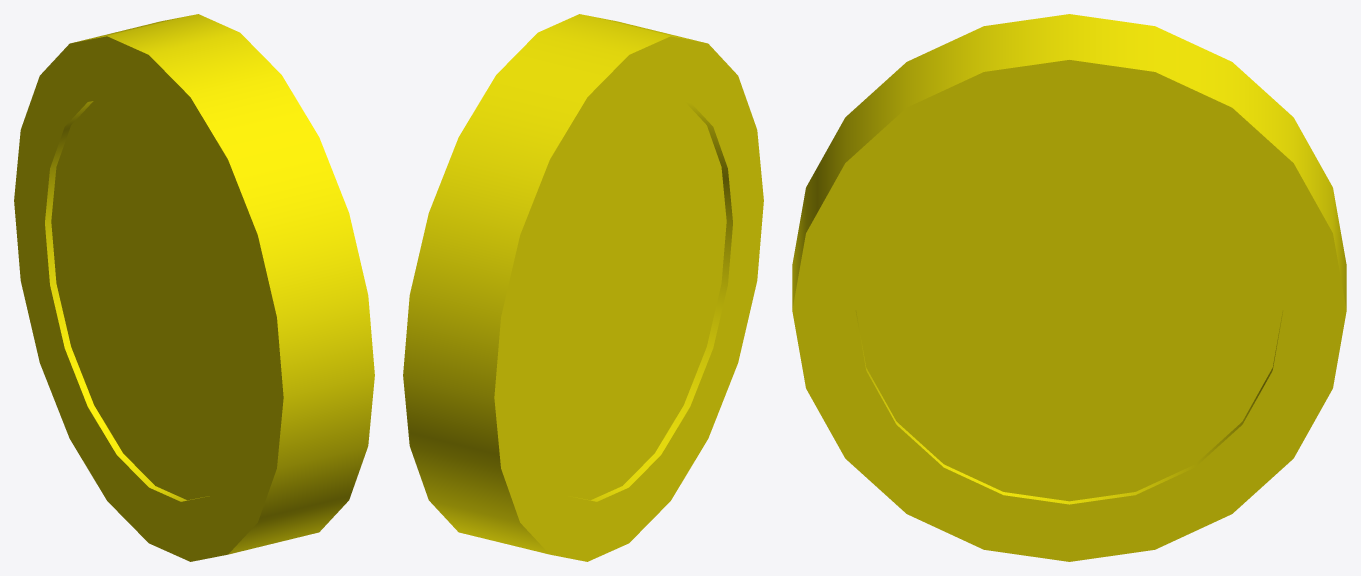
The model's file is Coin.fbx.
3 views of the same model, side by side, from view 1: azimuth 30°, elevation 25°; view 2: azimuth 150°, elevation 25°; view 3: azimuth 270°, elevation 25° (orthographic). The views are drawn at different scales.
Parts seen in each view (by area): view 1: Coin; view 2: Coin; view 3: Coin.
Boxes of the visible parts, x1=… form: Coin: x1=14, y1=14, x2=374, y2=561; Coin: x1=403, y1=14, x2=763, y2=561; Coin: x1=792, y1=14, x2=1346, y2=561.
Bounding box in the file's own units: 33.65 × 172 × 172.
